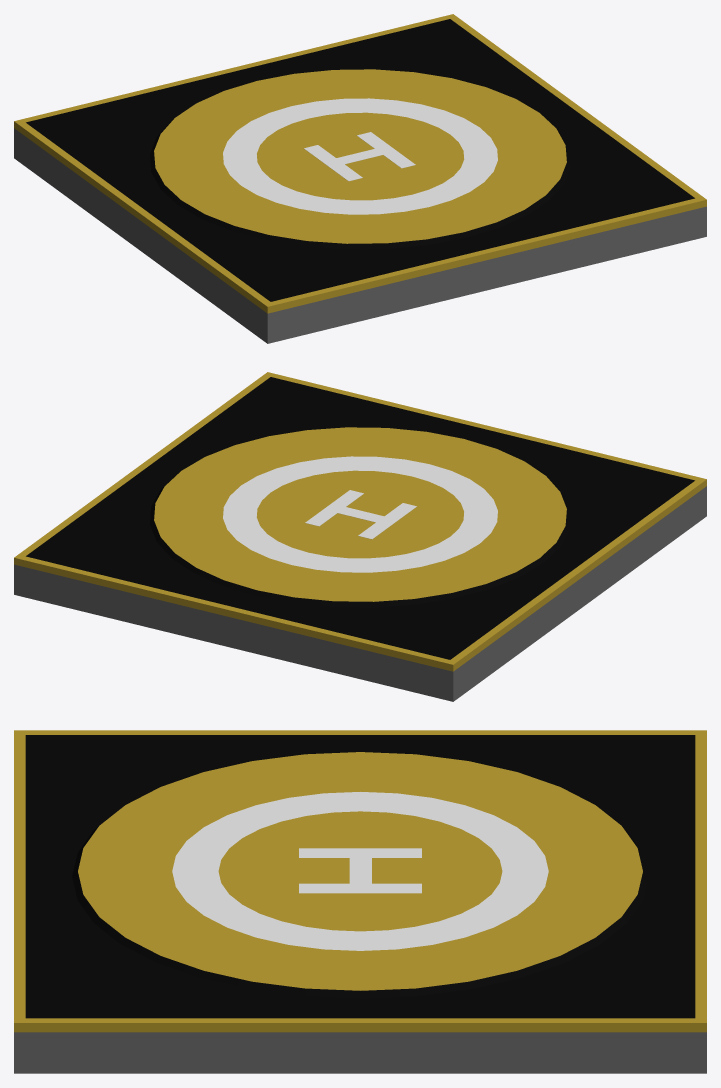
File: Platform_Y.fbx
3 renders of one model, top to bottom at view 1: azimuth 30°, elevation 25°; view 2: azimuth 150°, elevation 25°; view 3: azimuth 270°, elevation 25°, orthographic. The views are drawn at different scales.
Parts seen in each view (by area): view 1: Cube.002; view 2: Cube.002; view 3: Cube.002.
Part boxes in pixels (x1,y1,x2,y2): Cube.002: [14, 14, 706, 343]; Cube.002: [14, 372, 706, 701]; Cube.002: [14, 730, 706, 1073].
Size of the model in its own units: 164 by 14.62 by 164.
